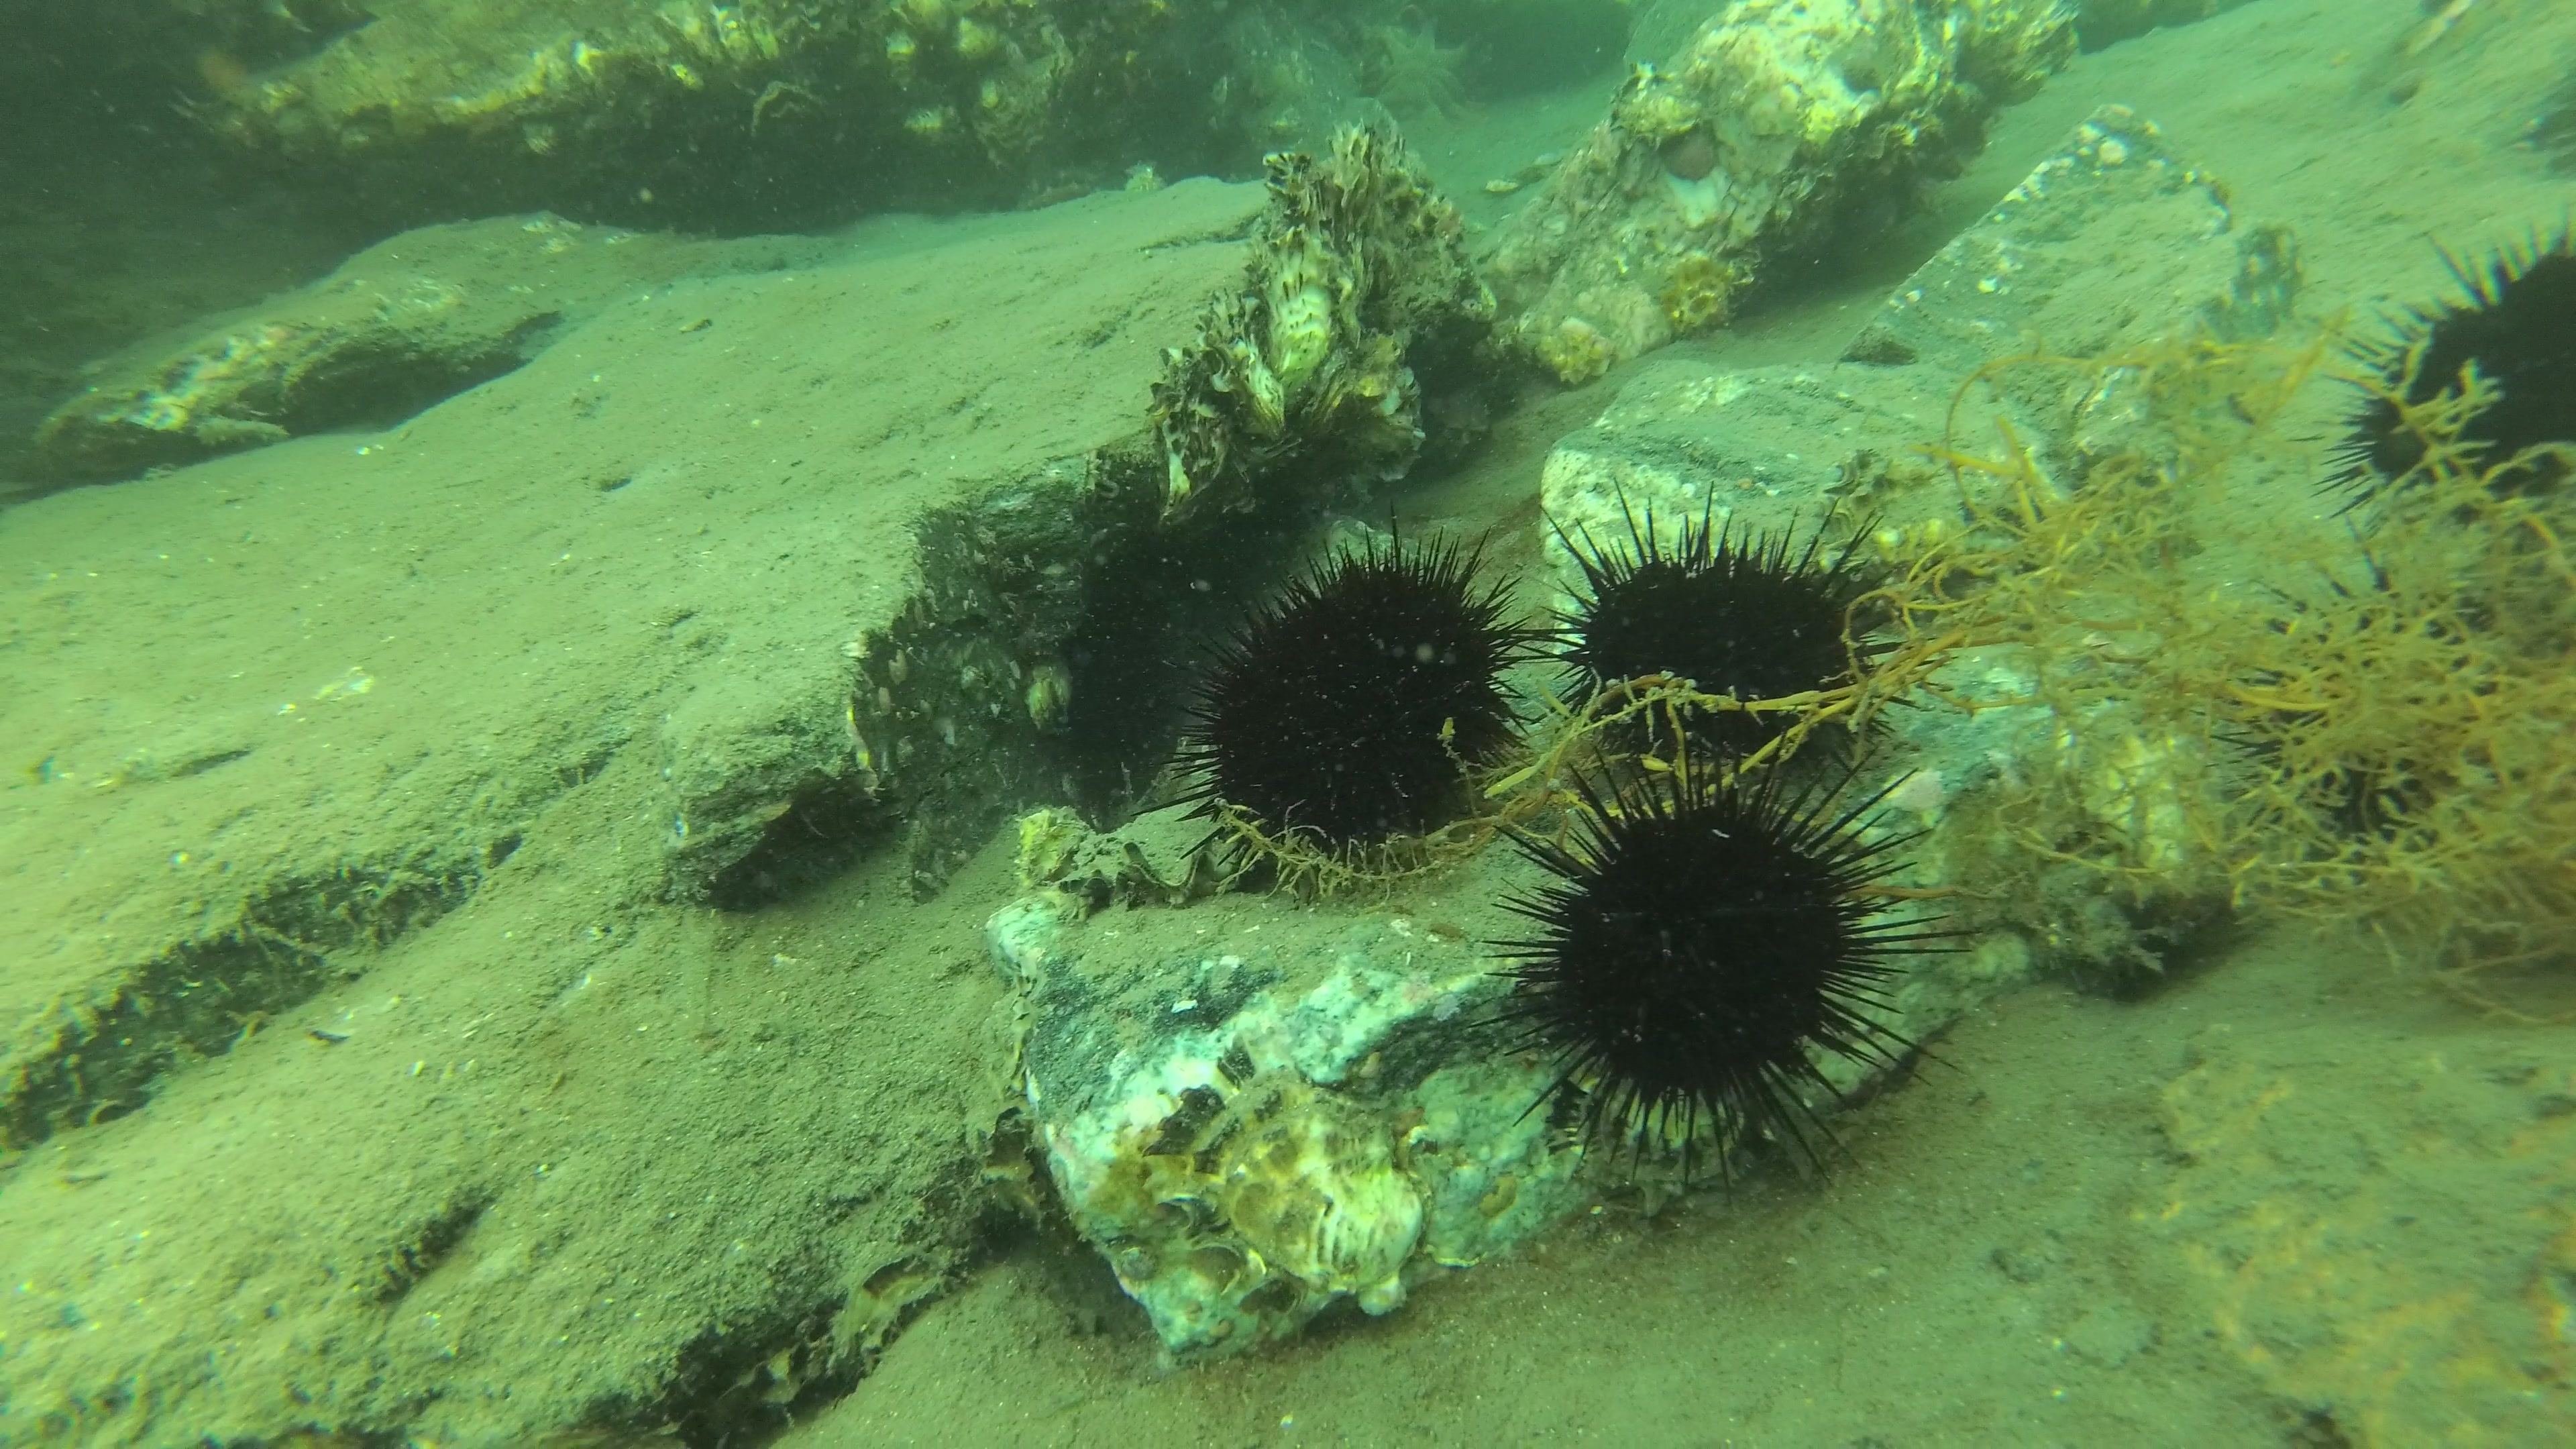echinus: (1479, 736, 1969, 1177), (1534, 448, 1946, 803), (1182, 508, 1541, 893), (2309, 203, 2576, 552)
